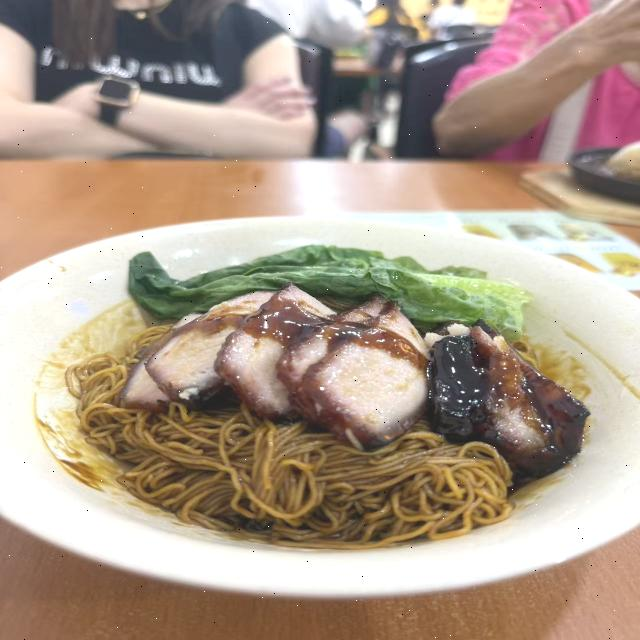Wantan Mee: (44, 197, 625, 583)
